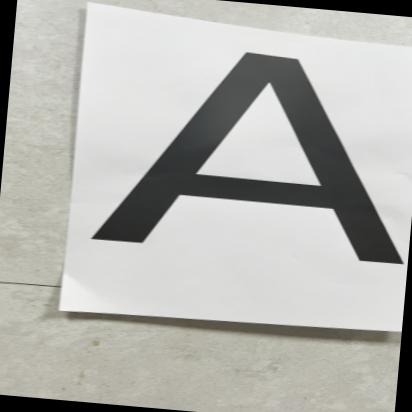seat: (82, 34, 412, 314)
